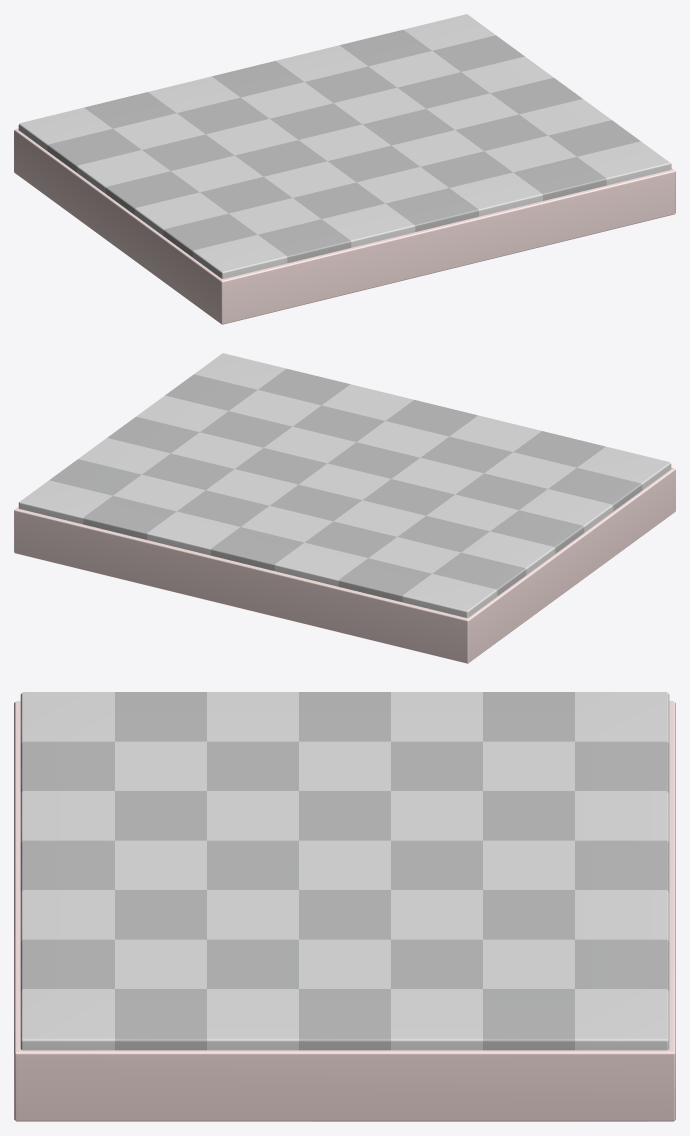
The model's file is Store_2_Base_1.glb.
3 renders of one model, top to bottom at view 1: azimuth 30°, elevation 25°; view 2: azimuth 150°, elevation 25°; view 3: azimuth 270°, elevation 25°, orthographic. The views are drawn at different scales.
Visible parts, largest first — view 1: Store_2_Base_1; view 2: Store_2_Base_1; view 3: Store_2_Base_1.
Boxes of the visible parts, bbox=[...] form: Store_2_Base_1: bbox=[14, 14, 675, 324]; Store_2_Base_1: bbox=[14, 353, 675, 663]; Store_2_Base_1: bbox=[14, 692, 675, 1121].
Size of the model in its own units: 15.07 by 1.62 by 11.95.
Materials: 1 (1 with a texture image).
